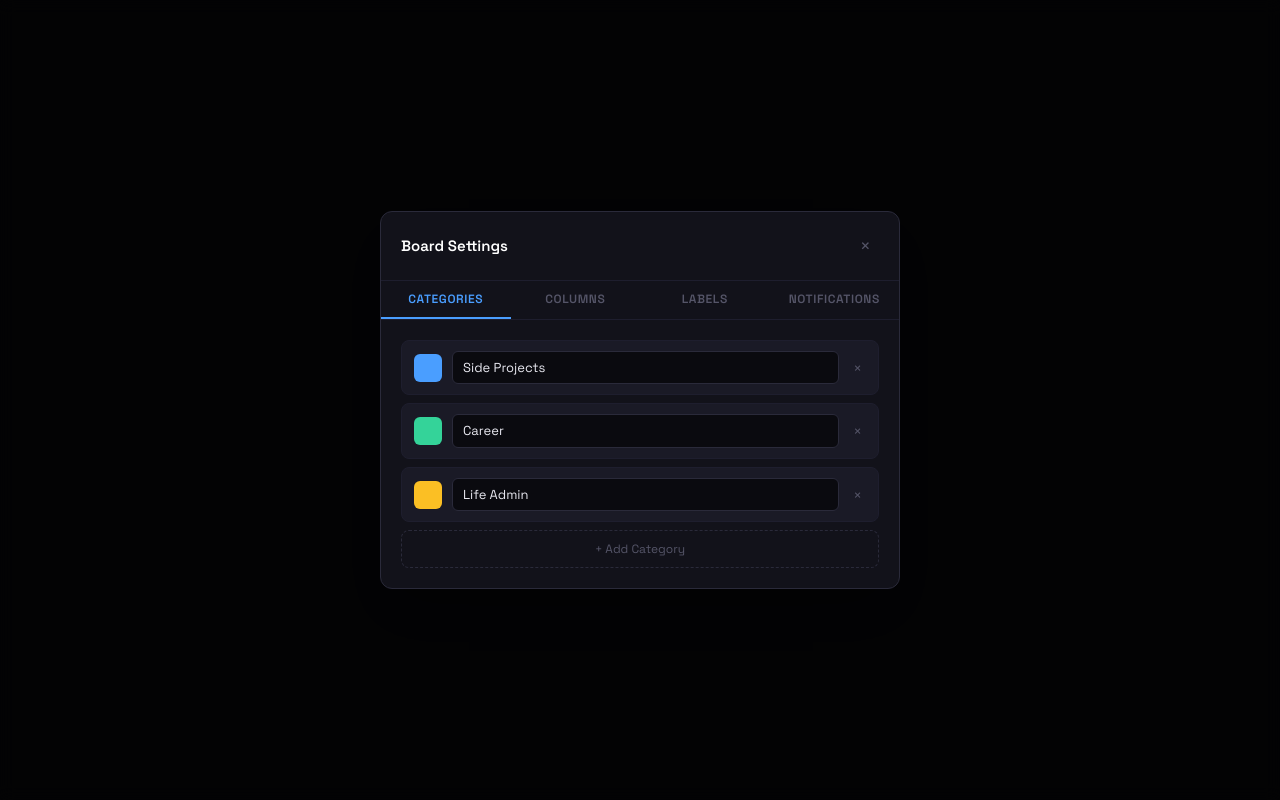
Scenario: SettingsModal › switches to Columns tab
Click the button "Columns" at (575, 300), box [510,281,640,319]
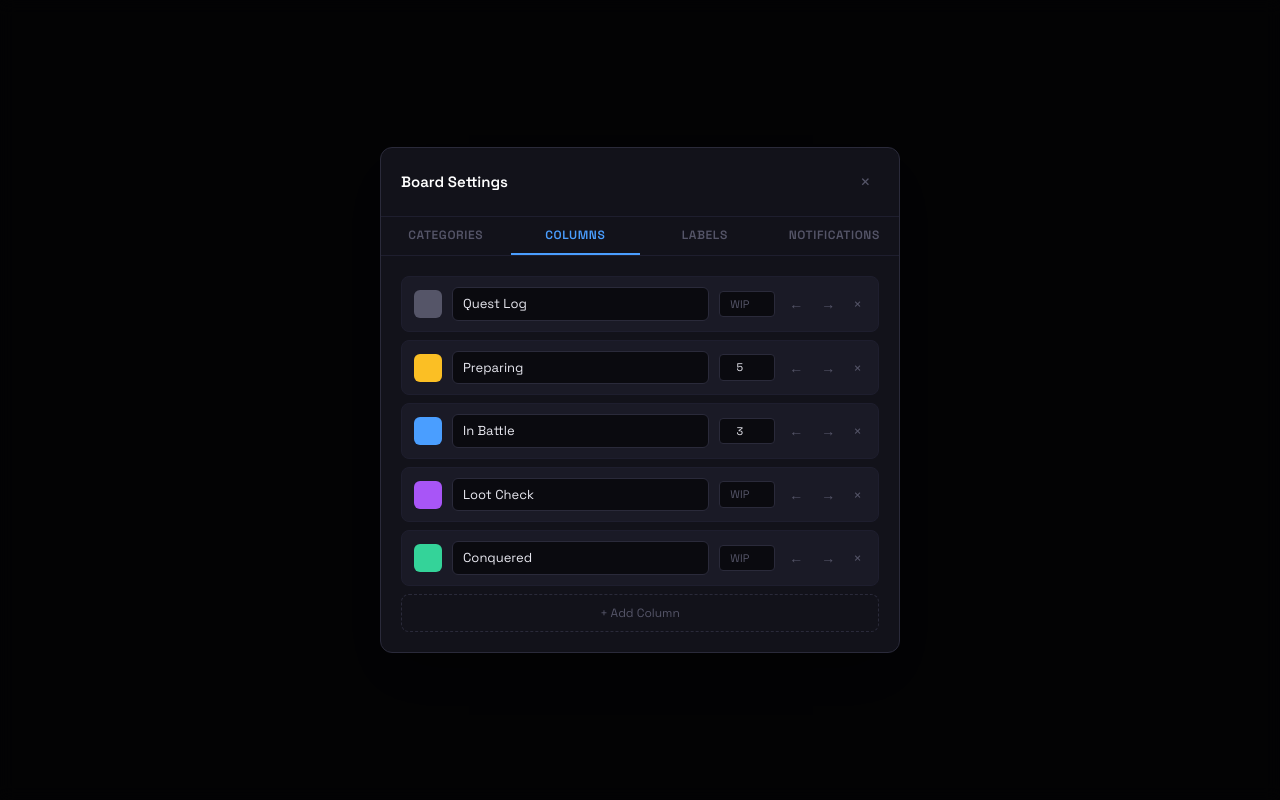
Now the 1st field showing "Quest Log" is shown, box [452,287,709,321]
Now the 2nd field showing "Preparing" is shown, box [452,351,709,384]
Now the 3rd field showing "In Battle" is shown, box [452,414,709,448]
